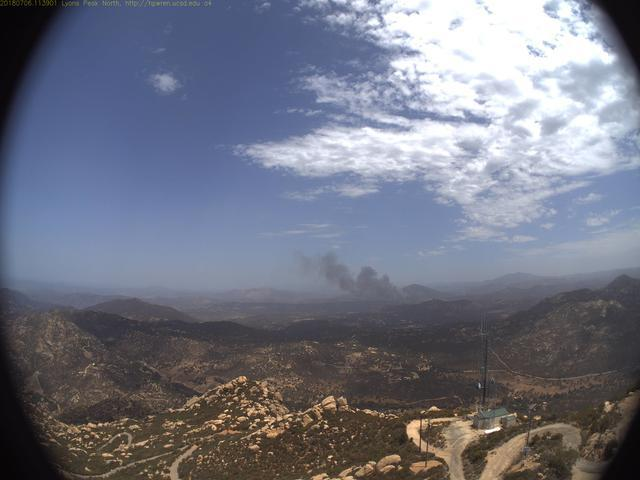smoke: (289, 241, 431, 316)
